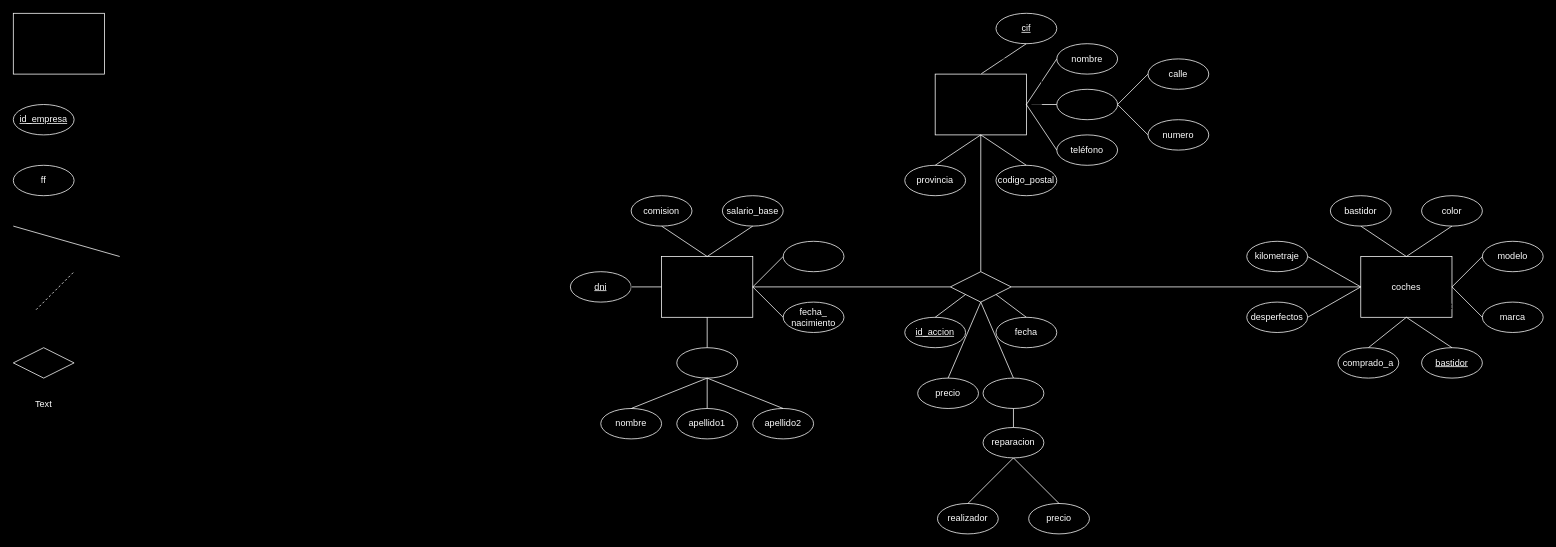
The diagram is 1556 pixels wide and 547 high, and some of its shapes have lost their labels. Each missing label, with the centre of its shape:
"accion" goes at (x=980, y=286).
"cliente" goes at (x=980, y=104).
"contrata" goes at (x=43, y=362).
"dirección" goes at (x=1087, y=104).
"fecha_ contratacion" goes at (x=813, y=256).
"nombre_comp" goes at (x=707, y=362).
"proyectos" goes at (x=58, y=43).
"tipo" goes at (x=1013, y=392).
"trabajadores" goes at (x=707, y=286).
